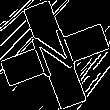N_S: (27, 24, 83, 86)
